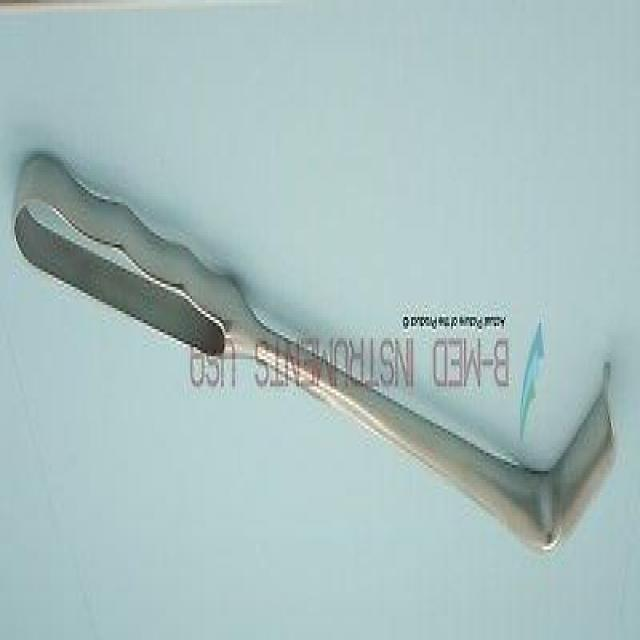Richardson: (8, 142, 619, 558)
